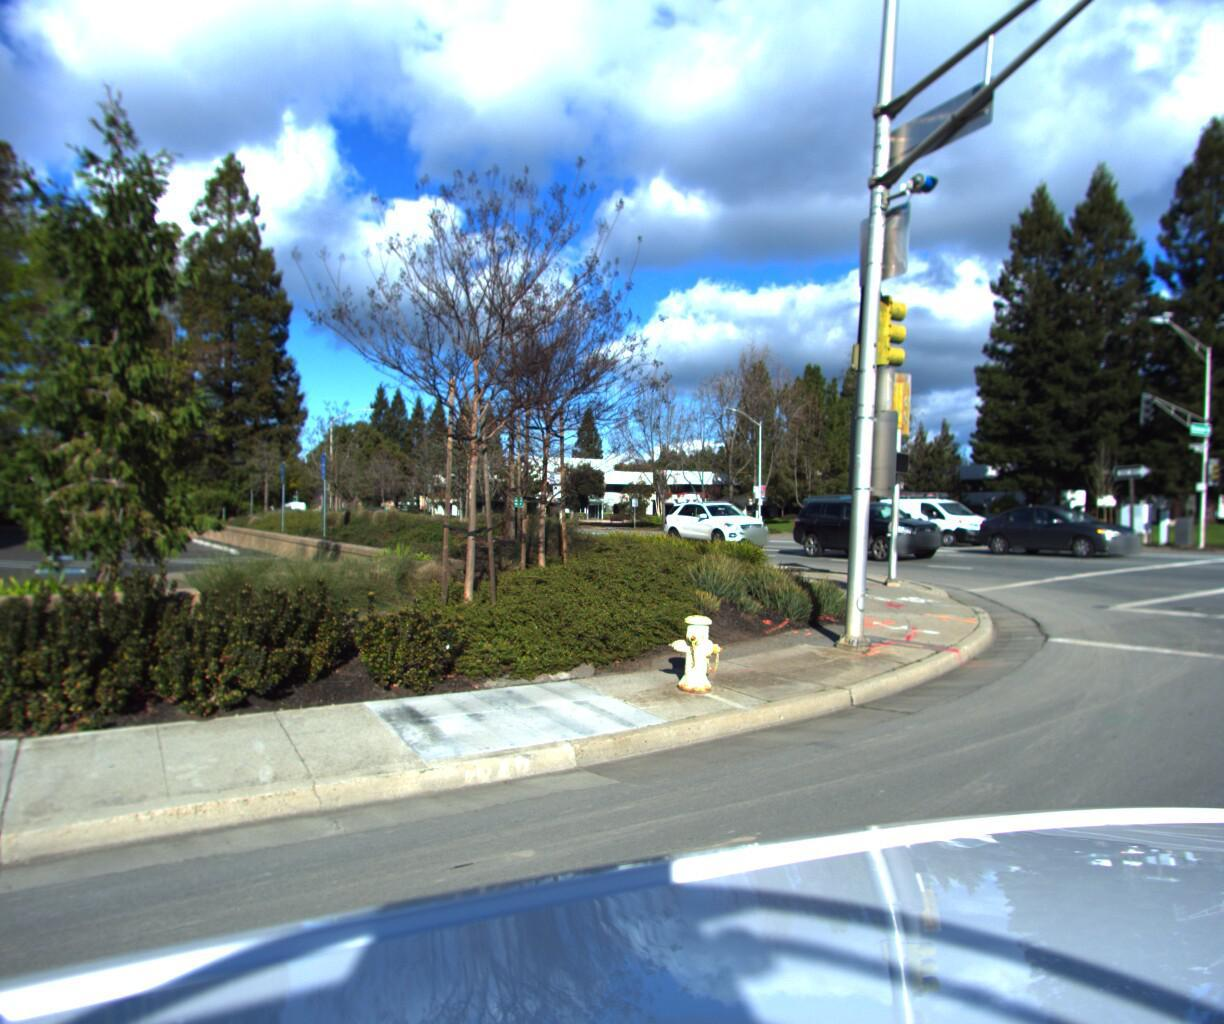car: (788, 490, 962, 558), (971, 496, 1158, 559), (862, 481, 999, 543), (658, 493, 781, 550)
